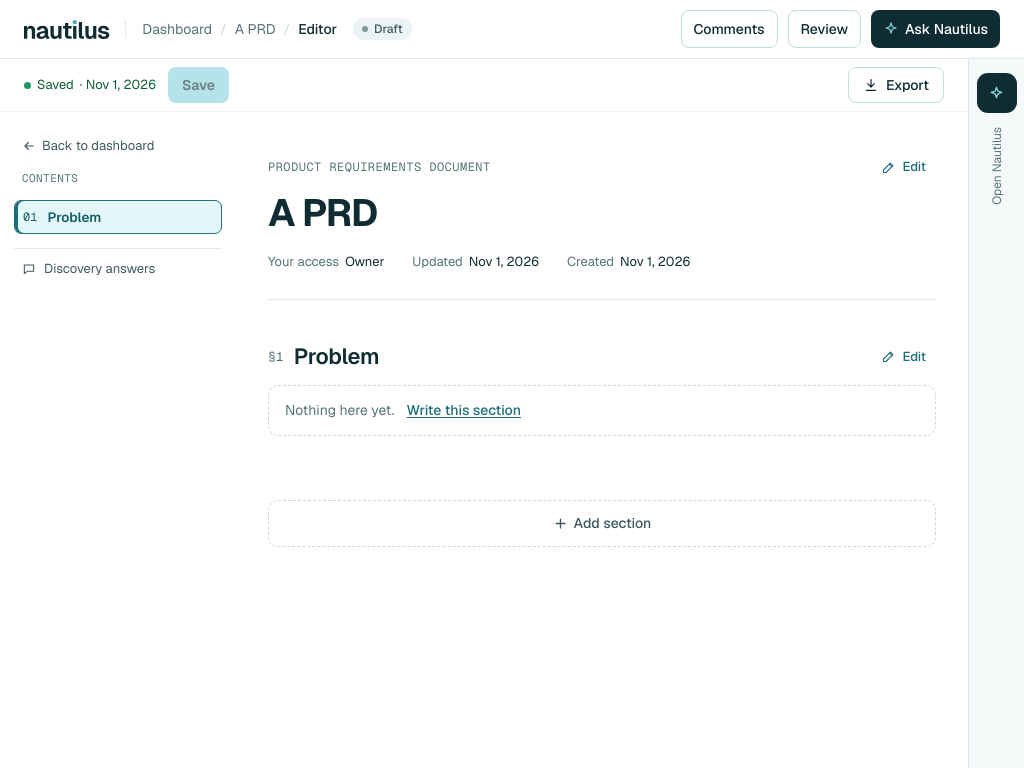
the side panel › switches views from the top bar, and pressing the open one closes it
Click the button "Comments": (729, 29) x1=680 y1=10 x2=778 y2=48
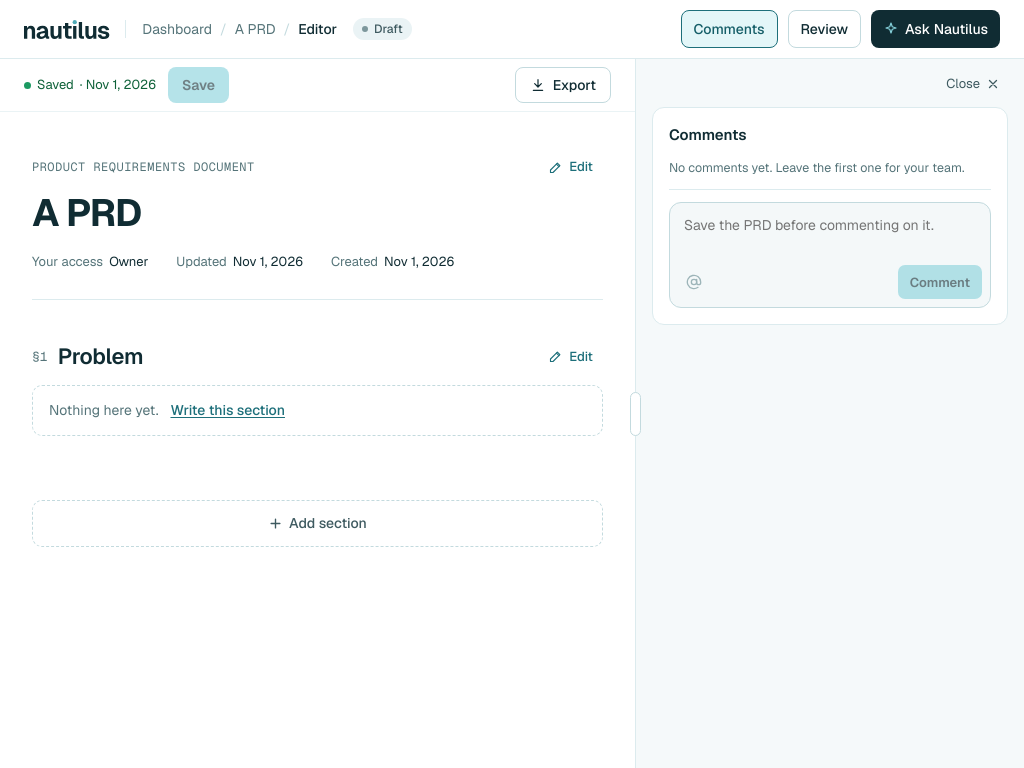
Check: the button "Comments" is pressed, box x1=680 y1=10 x2=778 y2=48
Click the button "Ask Nautilus": (936, 29) x1=871 y1=10 x2=1000 y2=48
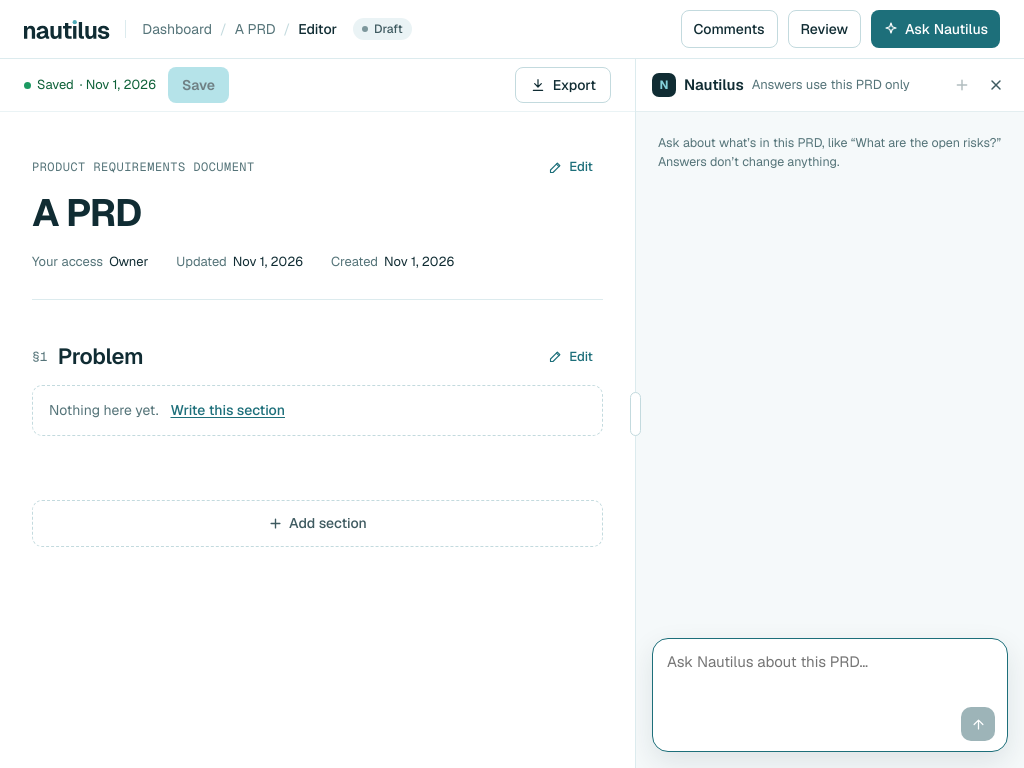
Check: the element with class "ne-chat" is shown, box x1=636 y1=59 x2=1023 y2=767
Click the button "Ask Nautilus": (936, 29) x1=871 y1=10 x2=1000 y2=48
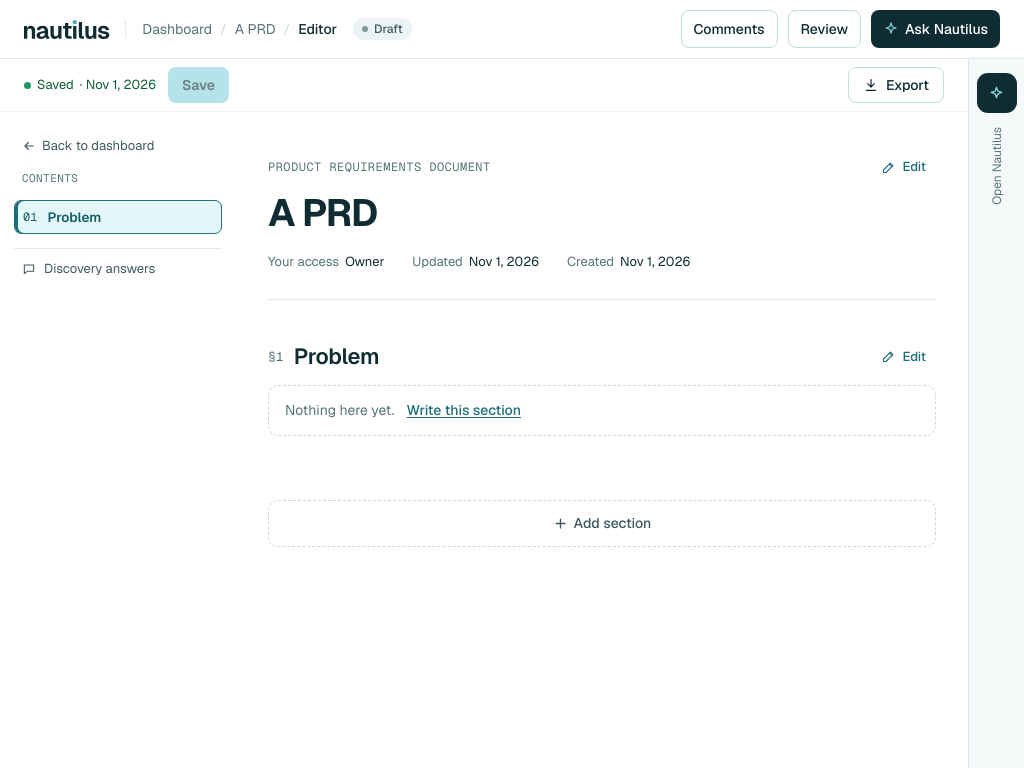
Check: the element with class "ne-panel" is gone
